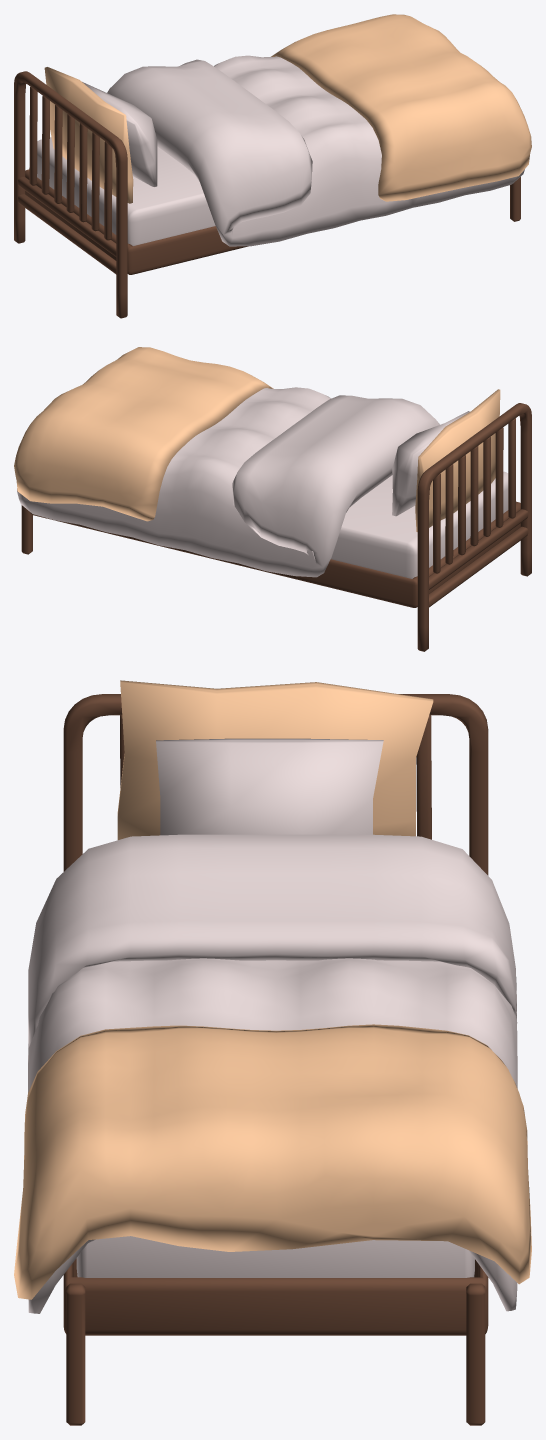
The model's file is Bed_1_size_01.fbx.
3 views of the same model, one above another, from view 1: azimuth 30°, elevation 25°; view 2: azimuth 150°, elevation 25°; view 3: azimuth 270°, elevation 25° (orthographic). The views are drawn at different scales.
Visible parts, largest first — view 1: Bed_1_size_01; view 2: Bed_1_size_01; view 3: Bed_1_size_01.
Boxes of the visible parts, box(x1,y1,x2,y2) form: Bed_1_size_01: box(14, 14, 531, 318); Bed_1_size_01: box(14, 347, 531, 651); Bed_1_size_01: box(14, 680, 531, 1425).
Size of the model in its own units: 210 by 93.57 by 117.
